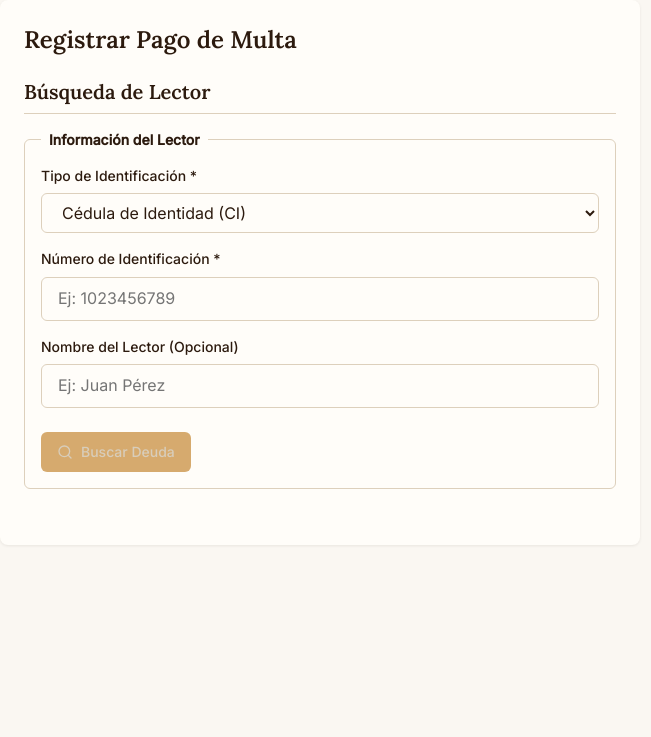
Test case: DebtPaymentForm — interactions (HU-06) › TC-HU06-01 — displays debt details after successful search
// Type to trigger search
Type "R-2301" into the field labelled "Número de Identificación *" at (320, 299), box left=41, top=277, right=599, bottom=321
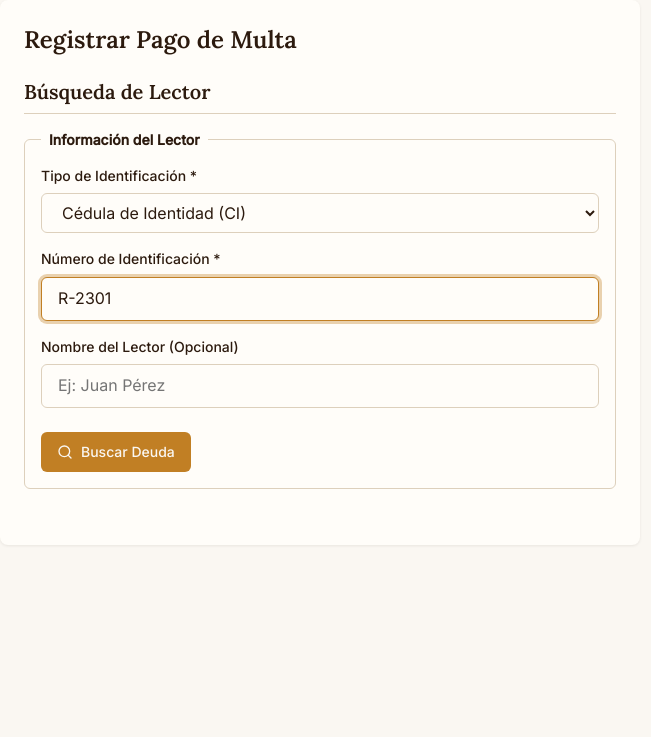
Click the button "Buscar Deuda" at (116, 452), box left=41, top=432, right=191, bottom=472
(page scrolled)
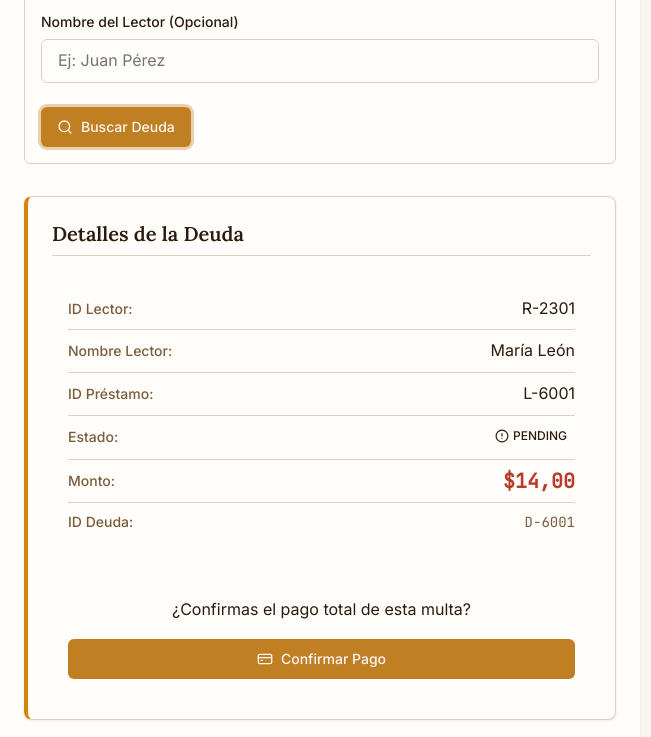
Now the heading "Detalles de la Deuda" is shown, box left=52, top=221, right=591, bottom=256
Now the text "R-2301" is shown, box left=522, top=296, right=575, bottom=321
Now the text "María León" is shown, box left=491, top=338, right=575, bottom=364
